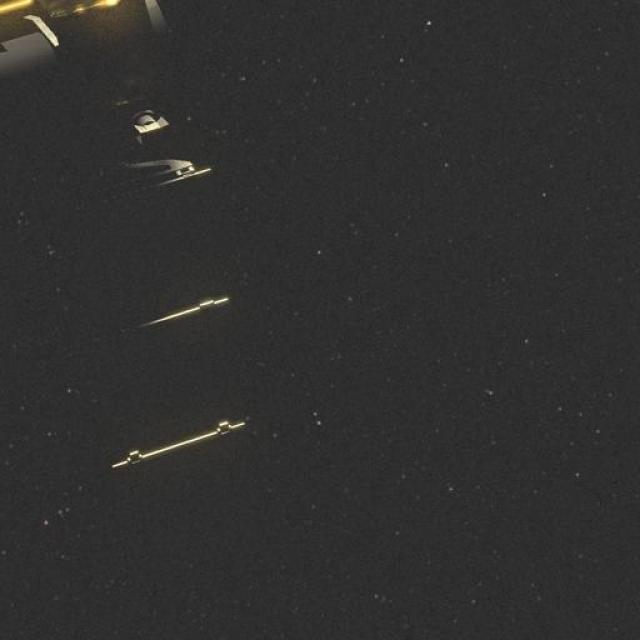earth_observation_sat_1: (0, 0, 230, 221)
